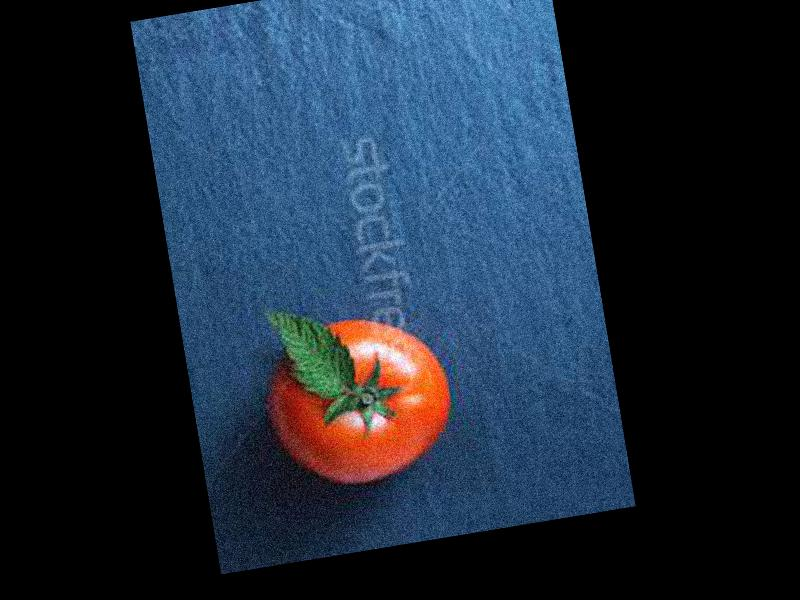Tomato: (260, 304, 461, 493)
